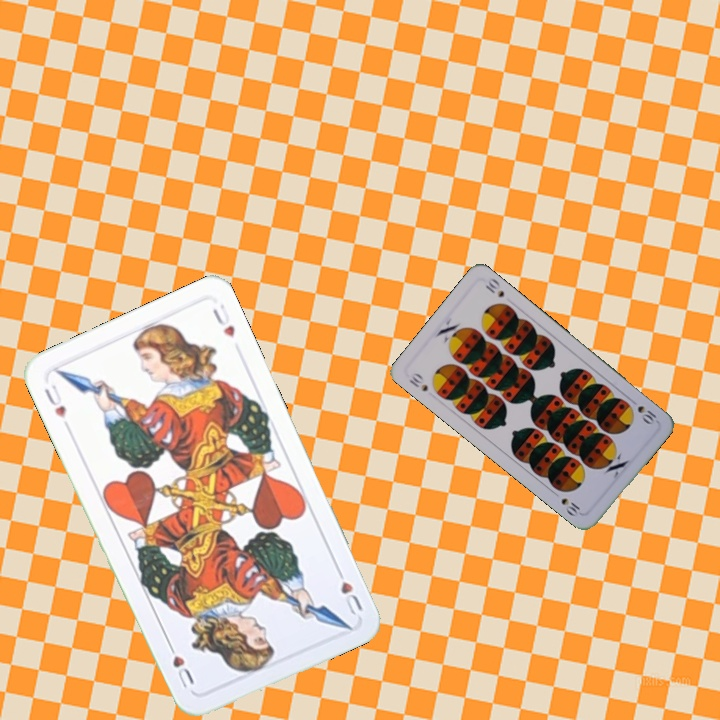HU: (331, 562, 366, 618), (40, 380, 69, 421)
S10: (633, 401, 660, 427), (405, 369, 431, 394)
